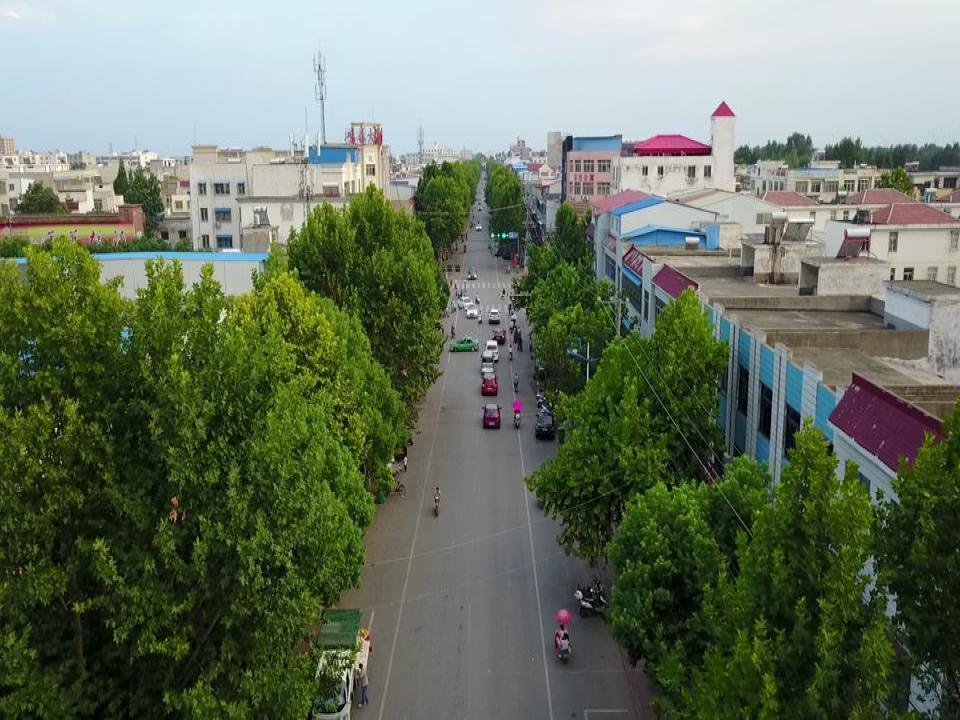car: (535, 412, 557, 439), (482, 403, 502, 429), (448, 335, 478, 352), (480, 373, 499, 398), (532, 367, 554, 380), (458, 296, 473, 313), (492, 327, 506, 344), (487, 308, 500, 324), (466, 305, 479, 319), (467, 265, 477, 280), (474, 222, 482, 230)
truck: (314, 612, 368, 720)
van: (480, 351, 494, 373), (484, 340, 499, 360)
